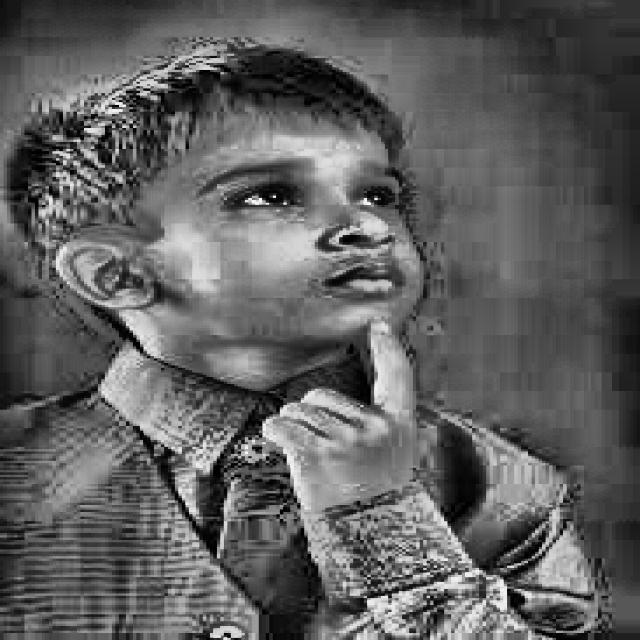Human: (1, 28, 589, 640)
